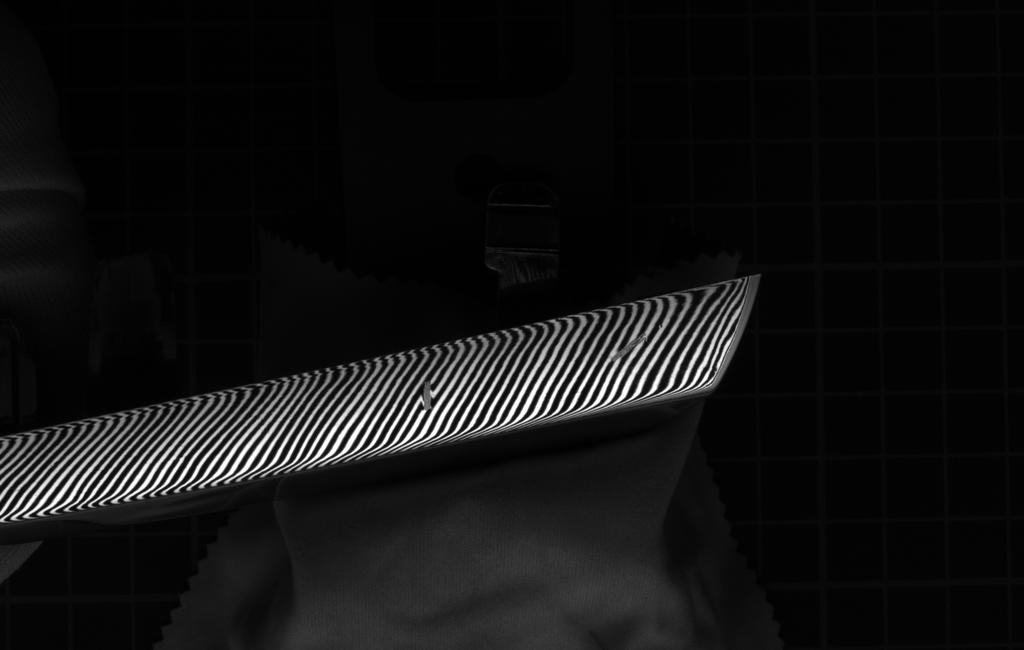Scratch: (607, 330, 658, 370), (413, 370, 444, 419)
